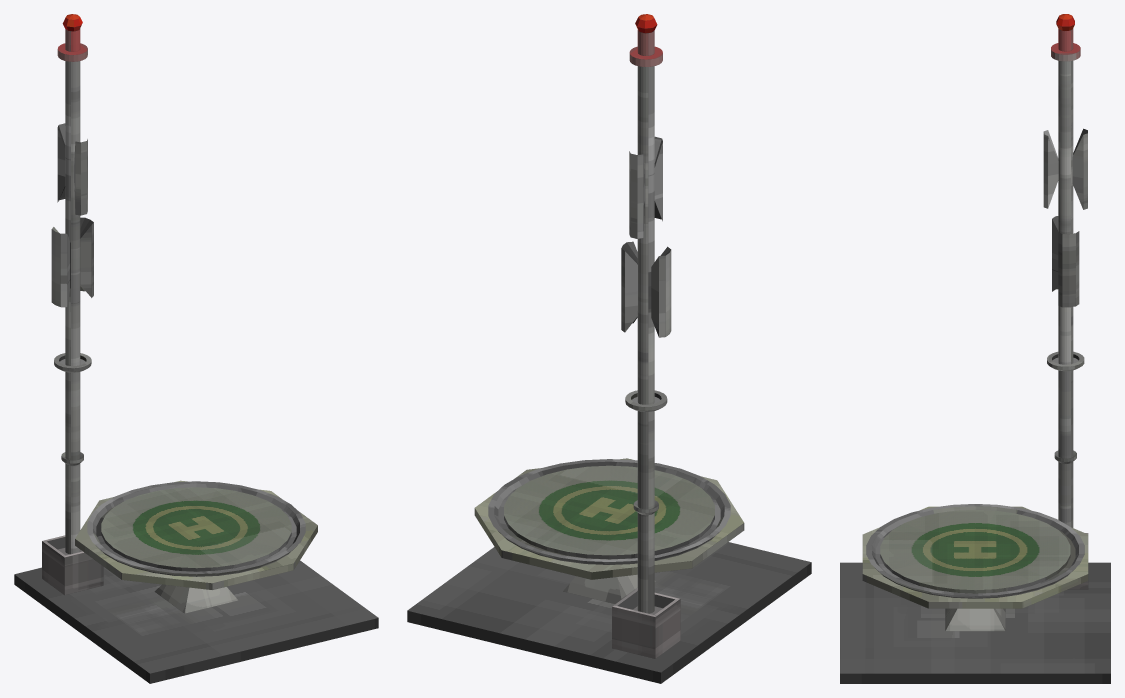
File: Helipad_Model.fbx
3 views of the same model, side by side, from view 1: azimuth 30°, elevation 25°; view 2: azimuth 150°, elevation 25°; view 3: azimuth 270°, elevation 25° (orthographic). The views are drawn at different scales.
Visible parts, largest first — view 1: cuboid, cylinder_1, cylinder, cuboid_1; view 2: cuboid, cylinder_1, cylinder, cuboid_1; view 3: cuboid, cylinder_1, cylinder.
Boxes of the visible parts, <box> form: cuboid: <box>14,560,378,683</box>; cylinder_1: <box>75,480,317,613</box>; cylinder: <box>51,28,93,554</box>; cuboid_1: <box>42,535,103,594</box>; cuboid: <box>407,542,811,683</box>; cylinder_1: <box>474,458,744,603</box>; cylinder: <box>621,30,671,613</box>; cuboid_1: <box>612,588,680,658</box>; cuboid: <box>840,562,1110,683</box>; cylinder_1: <box>862,504,1088,631</box>; cylinder: <box>1043,28,1087,527</box>.
Bounding box in the file's own units: 438 × 1056 × 450.
1 material, 1 textured.
